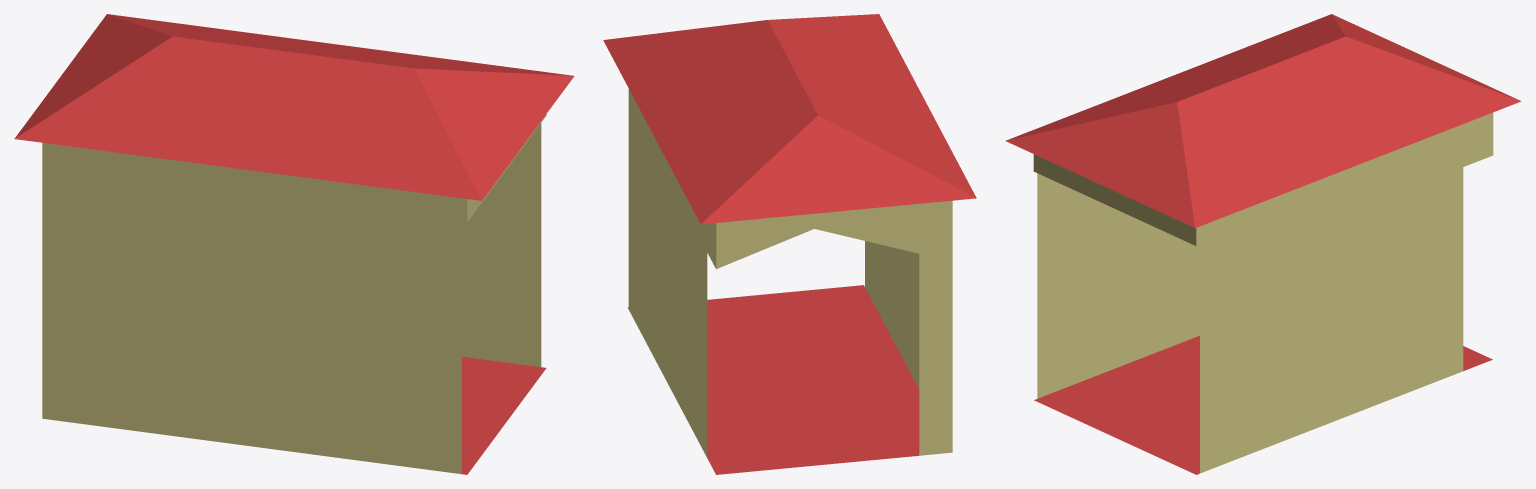
3 views of the same model, side by side, from view 1: azimuth 30°, elevation 25°; view 2: azimuth 150°, elevation 25°; view 3: azimuth 270°, elevation 25° (orthographic). The views are drawn at different scales.
Parts seen in each view (by area): view 1: group_5, group_3, group_4, group_6; view 2: group_3, group_5, group_6, group_4; view 3: group_5, group_3, group_6, group_4.
Part boxes in pixels (<box>): group_5: <box>42,114,546,474</box>; group_3: <box>14,14,566,200</box>; group_4: <box>15,38,574,200</box>; group_6: <box>462,356,546,474</box>; group_3: <box>604,14,976,224</box>; group_5: <box>628,89,952,457</box>; group_6: <box>627,285,919,474</box>; group_4: <box>603,14,976,198</box>; group_5: <box>1033,112,1493,473</box>; group_3: <box>1006,14,1521,227</box>; group_6: <box>1034,335,1492,474</box>; group_4: <box>1006,14,1390,227</box>.
Bounding box in the file's own units: 18.8 × 19.15 × 12.67.
